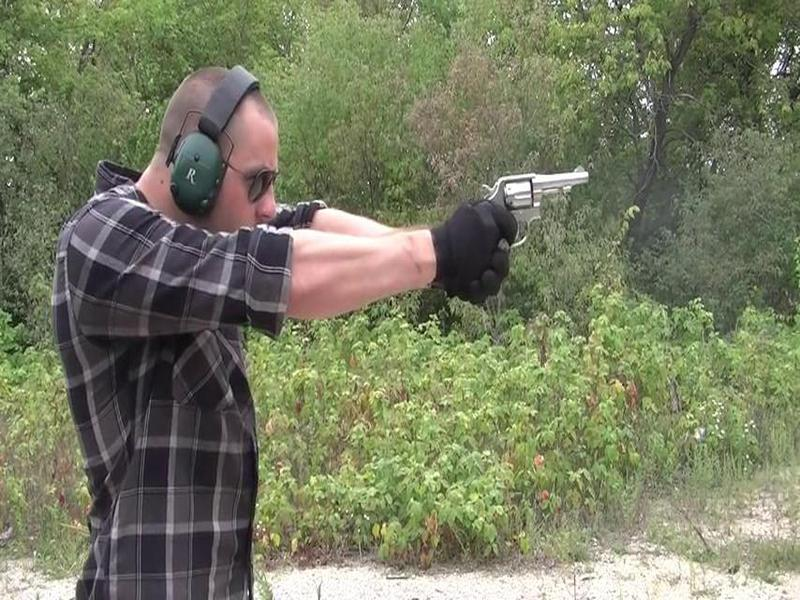Revolver: (442, 154, 599, 272)
